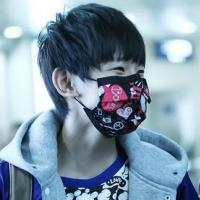OK: (62, 46, 152, 136)
